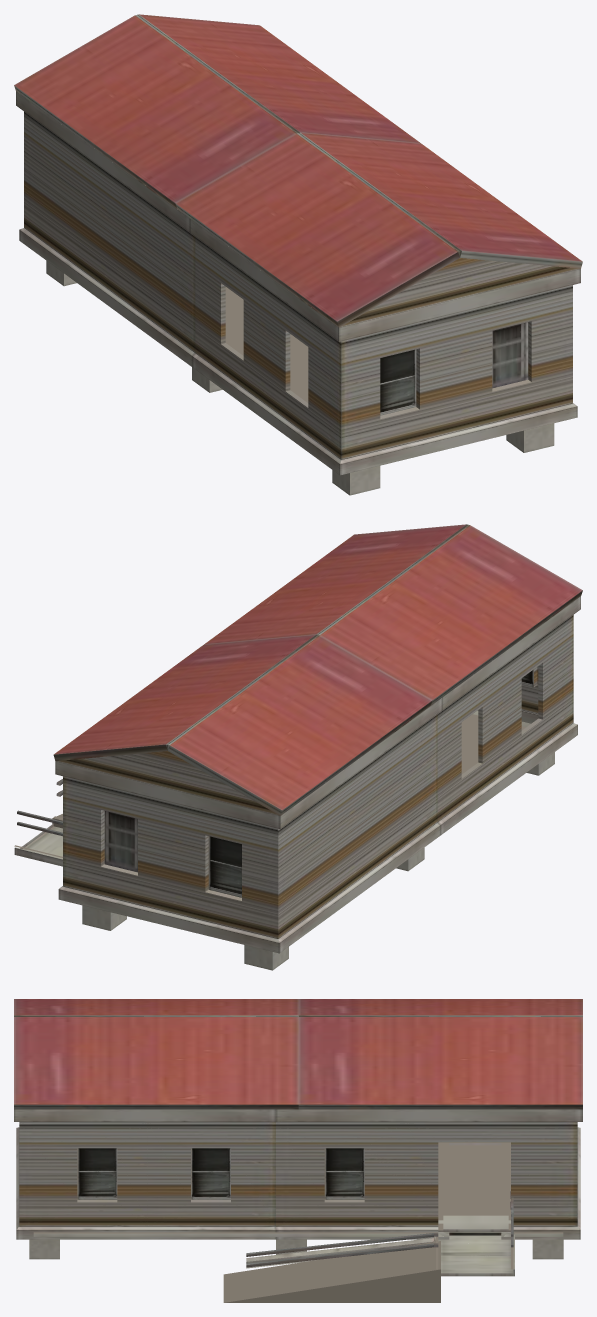
Rendered from rural-mobile-home.access-v7.lod1.glb.
The picture shows the model from 3 angles, top to bottom: view 1: azimuth 30°, elevation 25°; view 2: azimuth 150°, elevation 25°; view 3: azimuth 270°, elevation 25°; orthographic projection. The views are drawn at different scales.
Parts seen in each view (by area): view 1: Rural_UnmobileHome_1_Rural_Trailer_Stuff_1_0, Rural_UnmobileHome_1_Rural_Facade_FLR_2_0, Walkable floors and stairs; view 2: Rural_UnmobileHome_1_Rural_Trailer_Stuff_1_0, Rural_UnmobileHome_1_Rural_Facade_FLR_2_0, Walkable floors and stairs; view 3: Rural_UnmobileHome_1_Rural_Trailer_Stuff_1_0, Rural_UnmobileHome_1_Rural_Facade_FLR_2_0, Walkable floors and stairs.
Boxes of the visible parts, x1,y1,x2,y2 form: Rural_UnmobileHome_1_Rural_Trailer_Stuff_1_0: (14,14,582,459); Rural_UnmobileHome_1_Rural_Facade_FLR_2_0: (16,91,580,495); Walkable floors and stairs: (225,287,308,402); Rural_UnmobileHome_1_Rural_Trailer_Stuff_1_0: (53,524,582,938); Rural_UnmobileHome_1_Rural_Facade_FLR_2_0: (14,596,580,970); Walkable floors and stairs: (14,714,525,857); Rural_UnmobileHome_1_Rural_Trailer_Stuff_1_0: (14,999,582,1226); Rural_UnmobileHome_1_Rural_Facade_FLR_2_0: (14,1109,582,1276); Walkable floors and stairs: (33,1142,563,1302).
Size of the model in its own units: 6.66 by 4.39 by 11.38.
4 materials, 2 textured.
